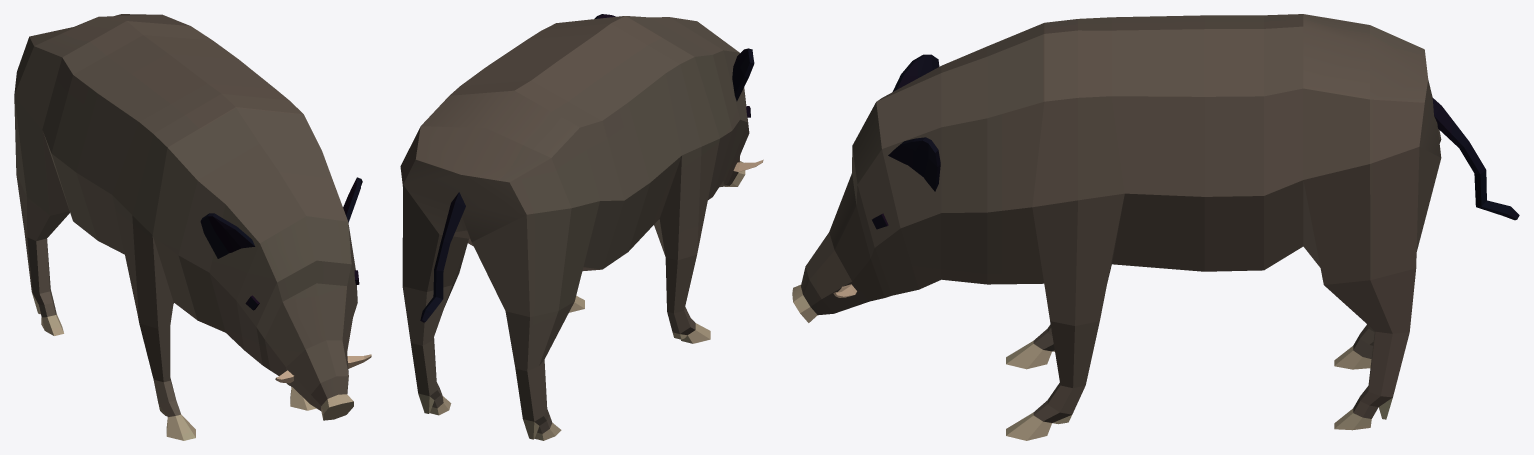
The model's file is 57fSWum6F1P.glb.
The picture shows the model from 3 angles, left to right: view 1: azimuth 30°, elevation 25°; view 2: azimuth 150°, elevation 25°; view 3: azimuth 270°, elevation 25°; orthographic projection. The views are drawn at different scales.
Parts seen in each view (by area): view 1: Geo_Boar; view 2: Geo_Boar; view 3: Geo_Boar.
Part boxes in pixels (<box>): Geo_Boar: <box>14,14,371,440</box>; Geo_Boar: <box>400,14,763,440</box>; Geo_Boar: <box>792,14,1519,440</box>.
Size of the model in its own units: 58.23 by 94.18 by 168.
1 material, 1 textured.
